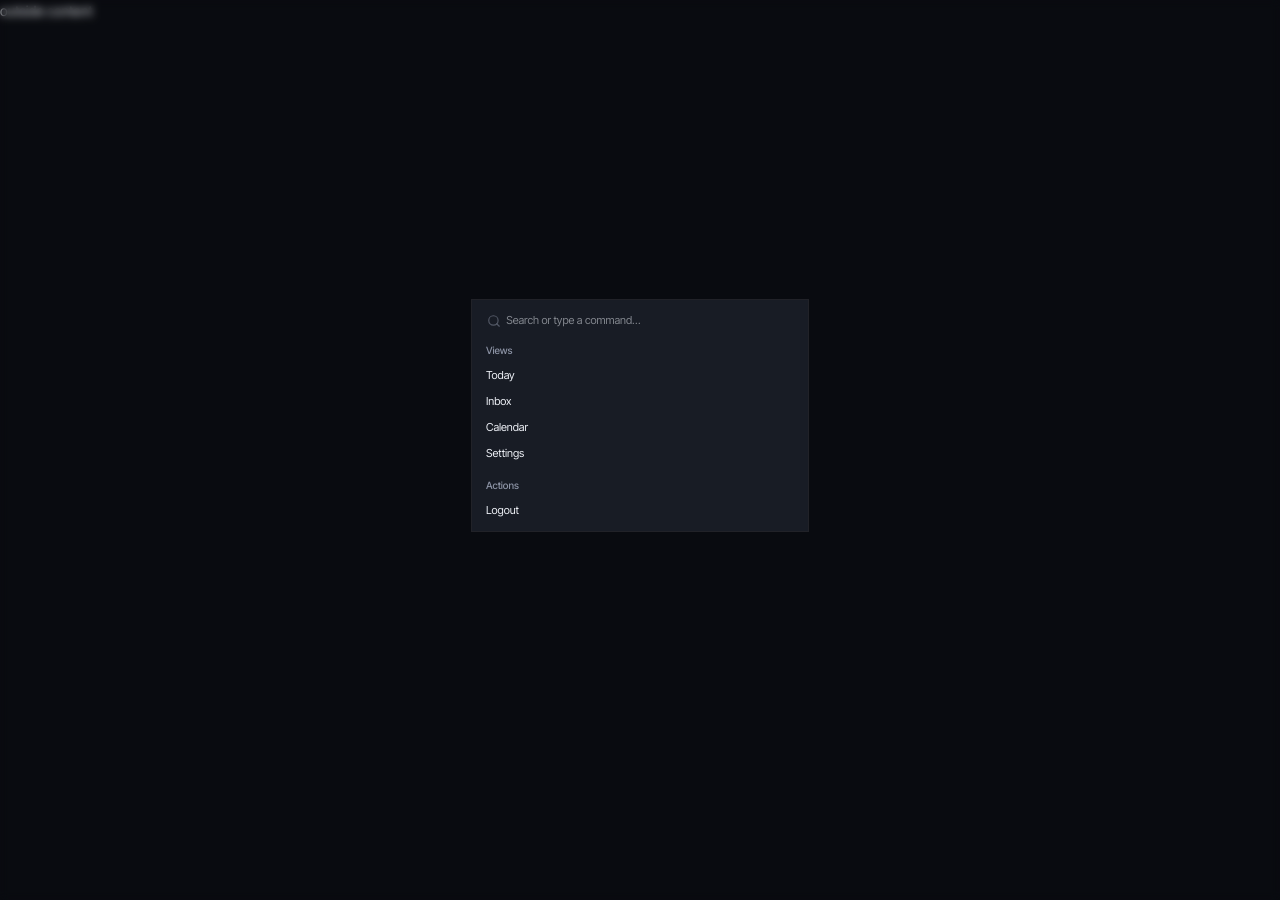
Scenario: CommandPalette › empty state copy matches UI-SPEC verbatim
Type "zzzzzz-no-match-zzzzzz" into the dropdown with placeholder "Search or type a command…" at (650, 321), box top-left (501, 313), bottom-right (800, 329)
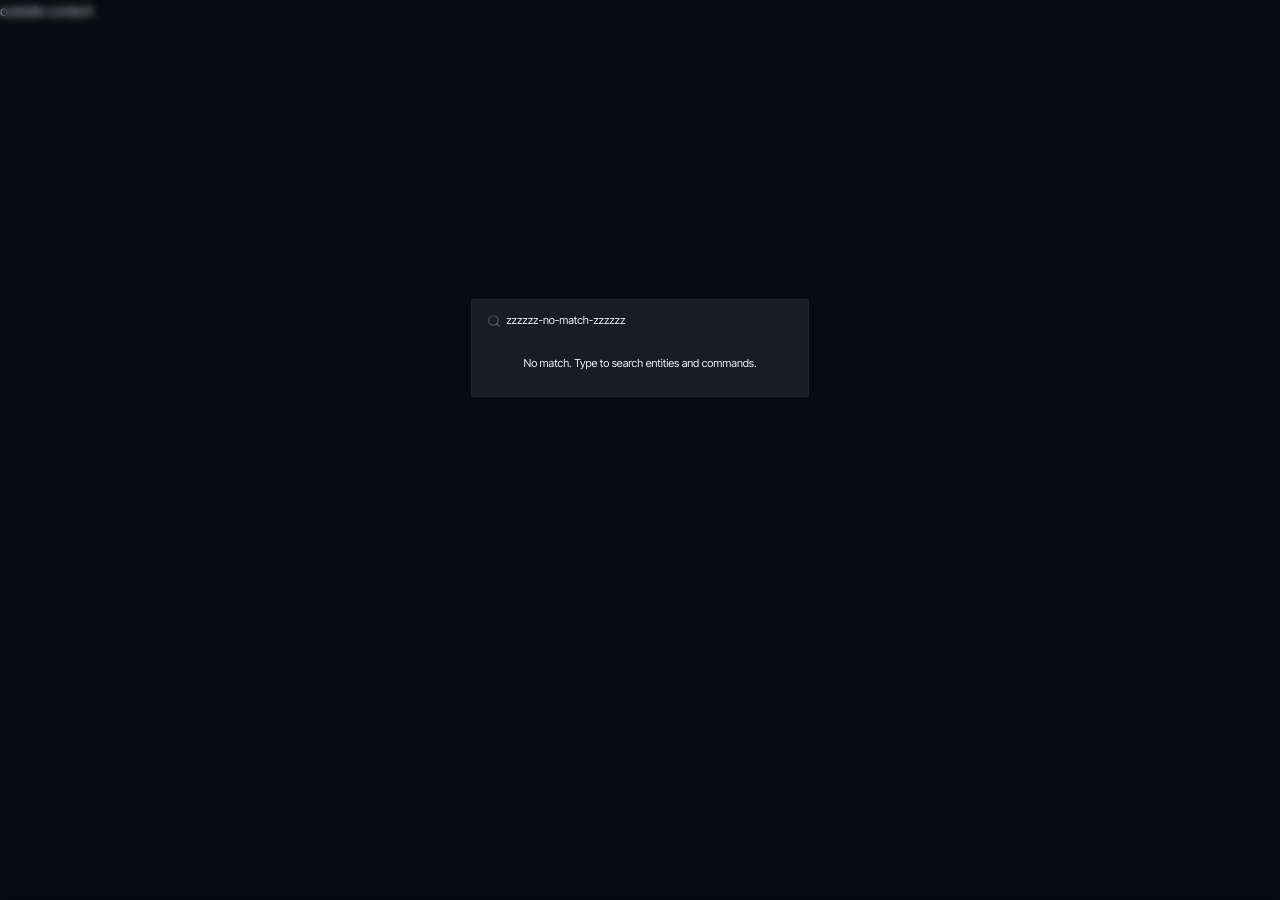
expect the text "No match. Type to search entities and commands." is shown: met, box top-left (523, 356), bottom-right (756, 370)
